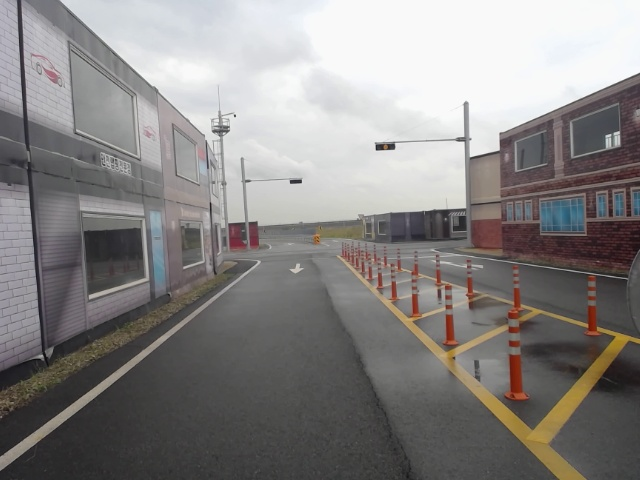orange_3: (375, 142, 396, 151)
